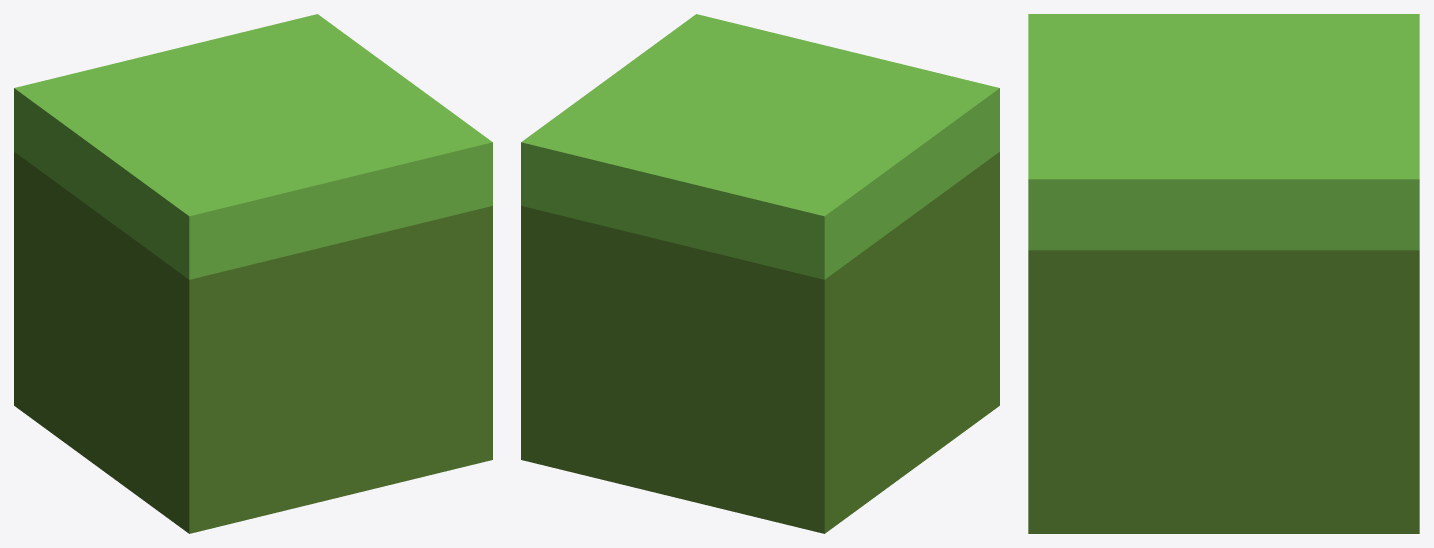
The model's file is MinimalDirt.obj.
3 views of the same model, side by side, from view 1: azimuth 30°, elevation 25°; view 2: azimuth 150°, elevation 25°; view 3: azimuth 270°, elevation 25° (orthographic). The views are drawn at different scales.
Bounding box in the file's own units: 1 × 1 × 1.
Materials: 1 (1 with a texture image).
